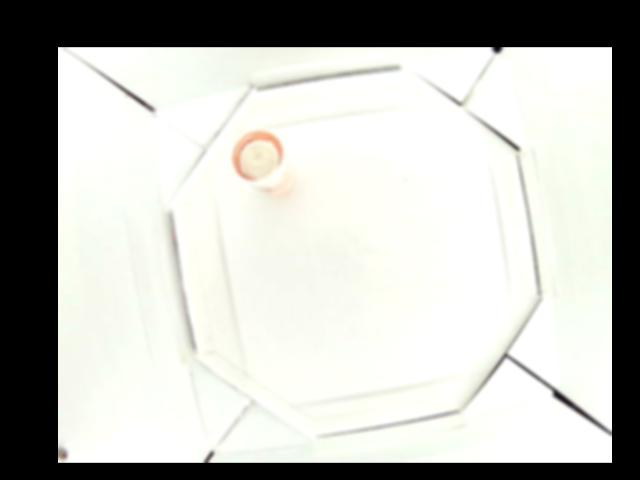Bottle: (228, 129, 292, 195)
